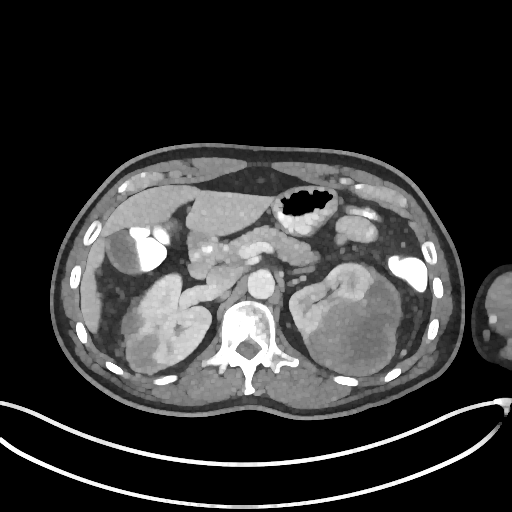Lesion: (322, 274, 398, 376)
